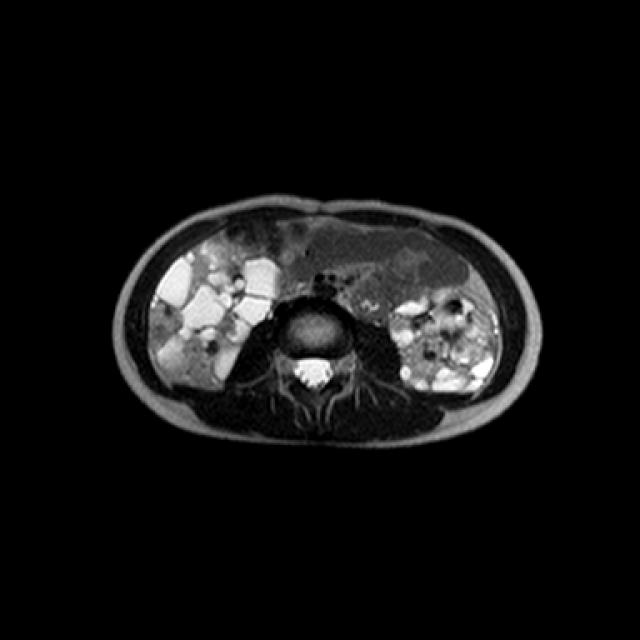sag: (150, 242, 285, 388)
sol: (391, 288, 500, 393)
